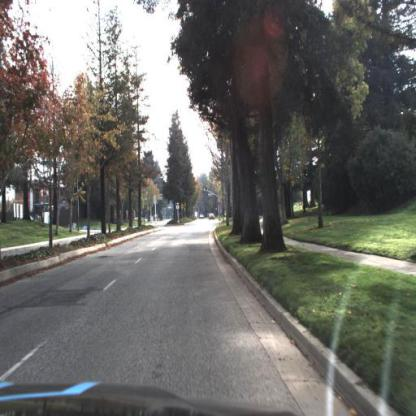car: (209, 214, 214, 220), (200, 214, 204, 219)
trafficLight-Red: (204, 188, 205, 193), (221, 200, 222, 204)
